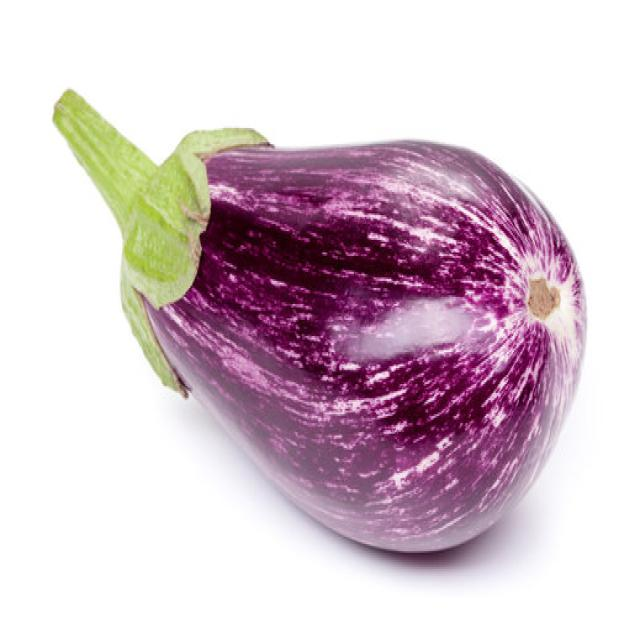Eggplant: (51, 85, 588, 555)
